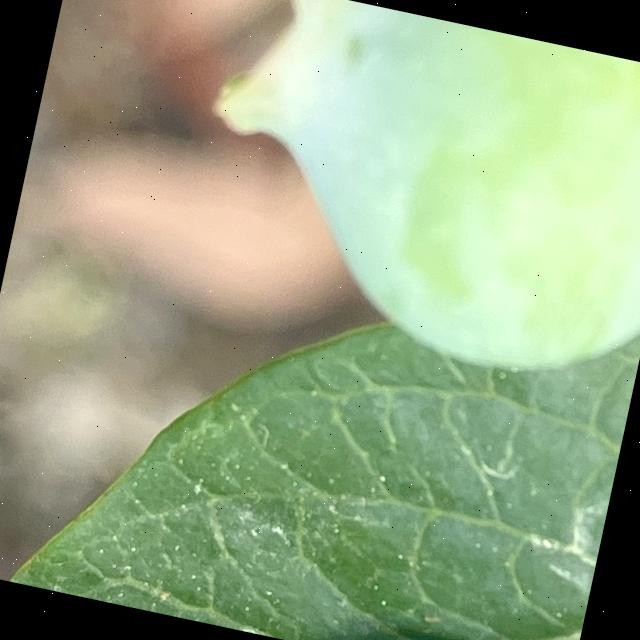Blueberries: (147, 0, 640, 432)
